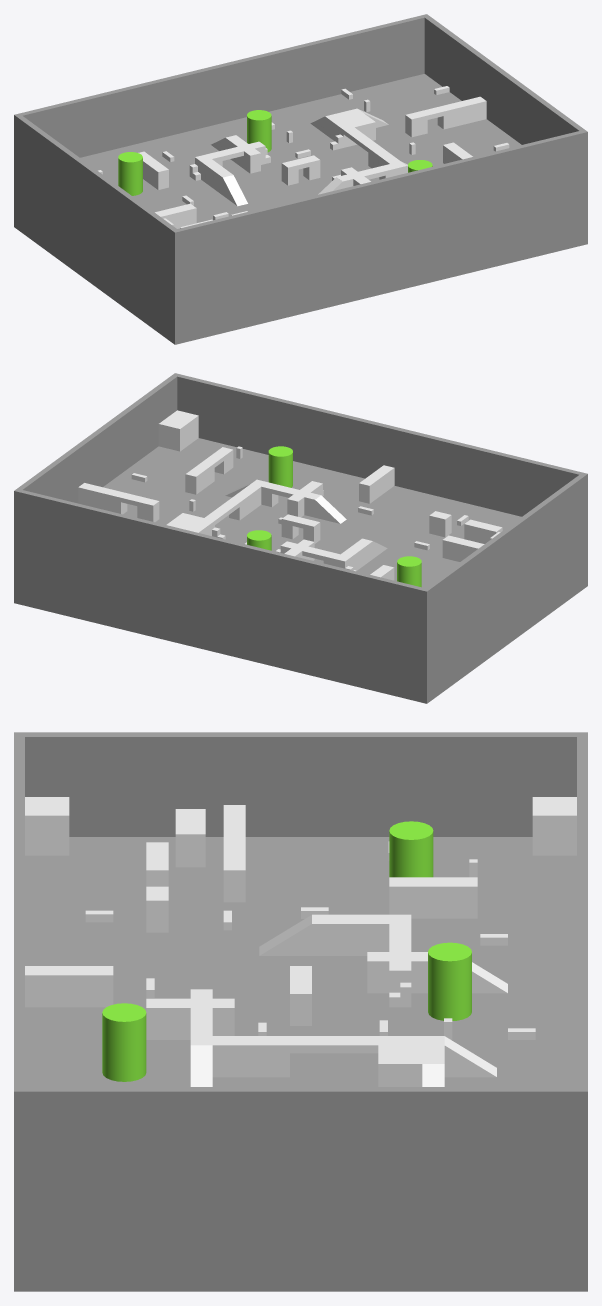
Rendered from Map_Prototype.fbx.
3 renders of one model, top to bottom at view 1: azimuth 30°, elevation 25°; view 2: azimuth 150°, elevation 25°; view 3: azimuth 270°, elevation 25°, orthographic. The views are drawn at different scales.
Visible parts, largest first — view 1: Wall__3_, Wall__2_, Plane, Wall__1_, Wall, Cube__10__1, Cube__1__1, UFO__2_, UFO, Cube__7__1, Cube__11_, Cube__1_ (+6 smaller); view 2: Wall__2_, Wall__3_, Plane, Wall__1_, Wall, Box__1_, Cube__1__1, UFO__1_, Cube__2_, Cube__1__2, Cube__1_, UFO__2_ (+10 smaller); view 3: Wall, Plane, Wall__1_, Wall__2_, Wall__3_, Cube__11_, UFO__1_, UFO, Cube__2_, Cube__6_, Cube__10__1, Cube__8__3 (+18 smaller).
Part boxes in pixels (box(x1,y1,x2,y2)): Wall__3_: box(172, 129, 587, 344); Wall__2_: box(14, 14, 429, 228); Plane: box(80, 74, 521, 222); Wall__1_: box(17, 116, 176, 342); Wall: box(424, 16, 584, 144); Cube__10__1: box(325, 108, 375, 147); Cube__1__1: box(437, 96, 486, 129); UFO__2_: box(118, 152, 142, 195); UFO: box(247, 110, 271, 152); Cube__7__1: box(225, 135, 260, 173); Cube__11_: box(138, 151, 168, 189); Cube__1_: box(155, 203, 196, 228); Wall__2_: box(14, 488, 429, 703); Wall__3_: box(172, 373, 587, 587); Plane: box(103, 438, 521, 587); Wall__1_: box(425, 475, 584, 701); Wall: box(17, 375, 177, 503); Box__1_: box(158, 410, 198, 451); Cube__1__1: box(78, 483, 127, 514); UFO__1_: box(268, 446, 292, 487); Cube__2_: box(229, 484, 261, 520); Cube__1__2: box(185, 461, 214, 494); Cube__1_: box(442, 535, 481, 561); UFO__2_: box(397, 556, 421, 587); Wall: box(25, 1087, 576, 1291); Plane: box(25, 837, 576, 1086); Wall__1_: box(25, 732, 576, 836); Wall__2_: box(577, 732, 587, 1291); Wall__3_: box(14, 732, 24, 1291); Cube__11_: box(389, 877, 477, 918); UFO__1_: box(102, 1003, 146, 1081); UFO: box(428, 942, 471, 1020); Cube__2_: box(212, 1036, 289, 1077); Cube__6_: box(312, 914, 389, 955); Cube__10__1: box(378, 1036, 444, 1086); Cube__8__3: box(146, 998, 234, 1039).
Bounding box in the file's own units: 7700 × 2000 × 5200.
